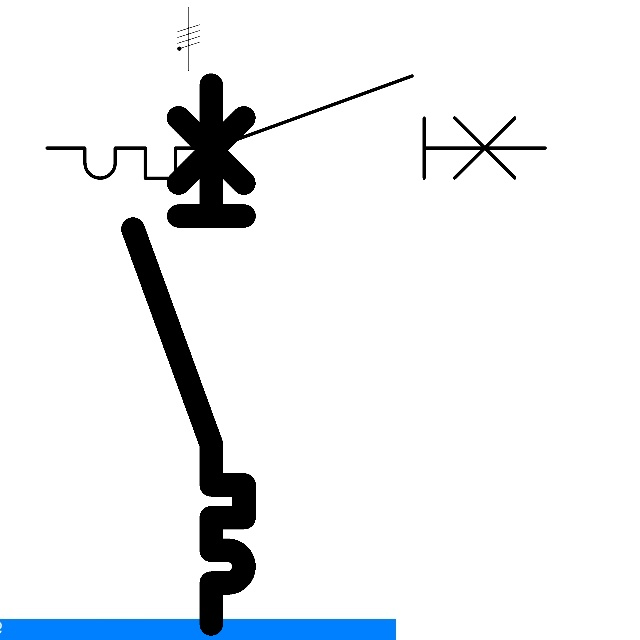interruptor_termomagnetico: (119, 71, 258, 638), (34, 63, 558, 191)
